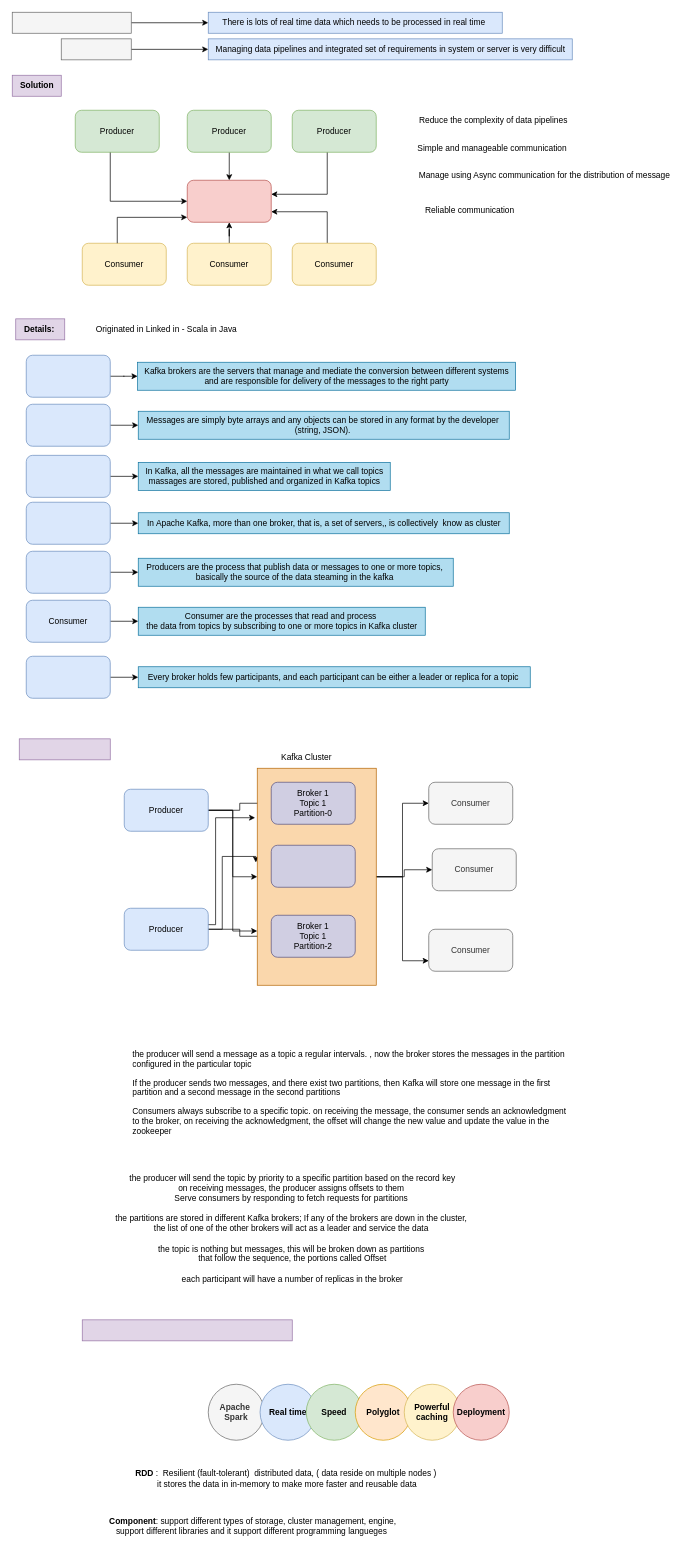
Some shapes in this 690 by 1553 pixel diagram are drawn without their labels. Each missing label, with the centre of its shape:
"Apache Spark : Hadoop product donate to apache" goes at pixel 187 1330.
"Broker 1 Topic 1 Partition-1" goes at pixel 313 866.
"Brokers" goes at pixel 68 376.
"Cluster" goes at pixel 68 523.
"Kafka Architecture" goes at pixel 64 749.
"Kafka: To Understand" goes at pixel 71 22.
"Kakfa Cluster" goes at pixel 229 201.
"Message" goes at pixel 68 425.
"partitions" goes at pixel 68 677.
"Producers" goes at pixel 68 572.
"Real Problem" goes at pixel 96 49.
"Topic" goes at pixel 68 476.
